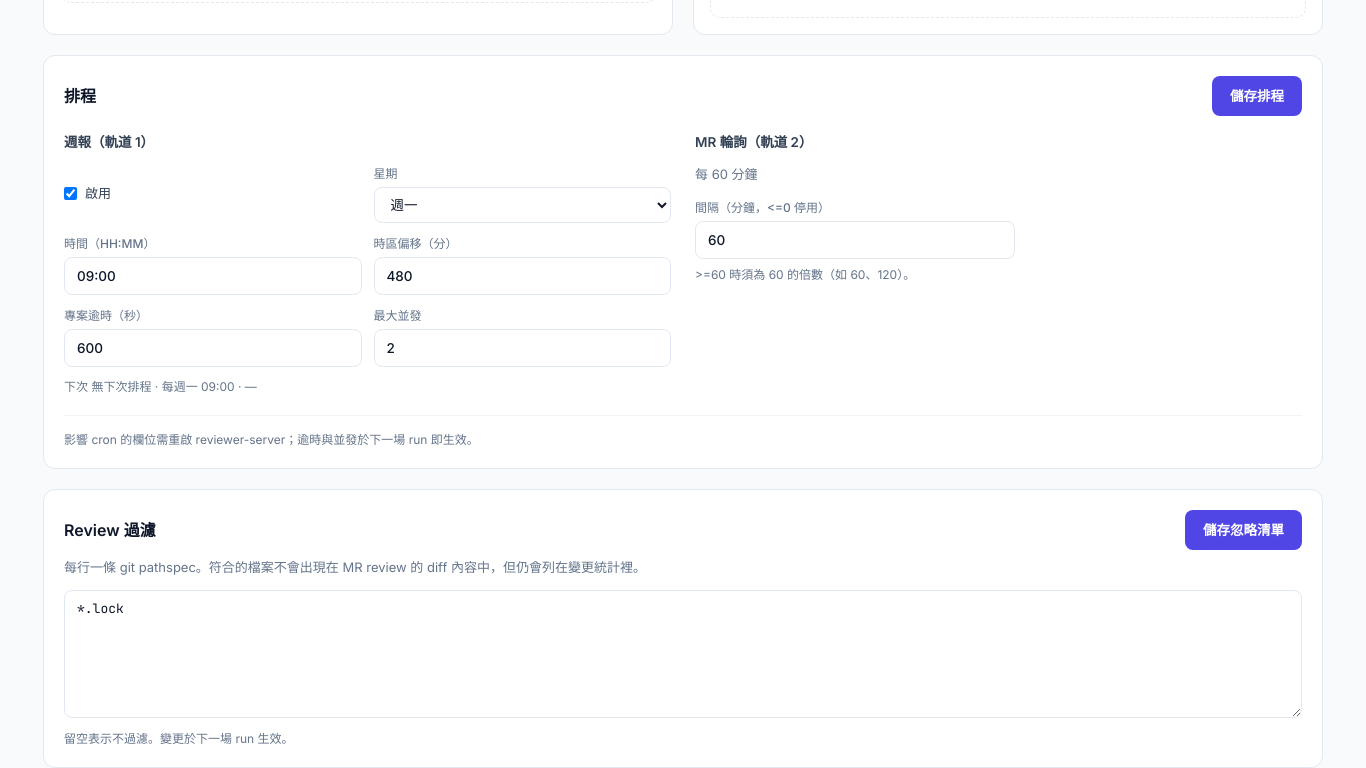
Test: DashboardPage review ignore list › surfaces a rejected save without claiming success
(page scrolled)
Step 1. Replace the text in the text box named "忽略清單" with ":(top)" → (683, 654), box [64, 590, 1302, 718]
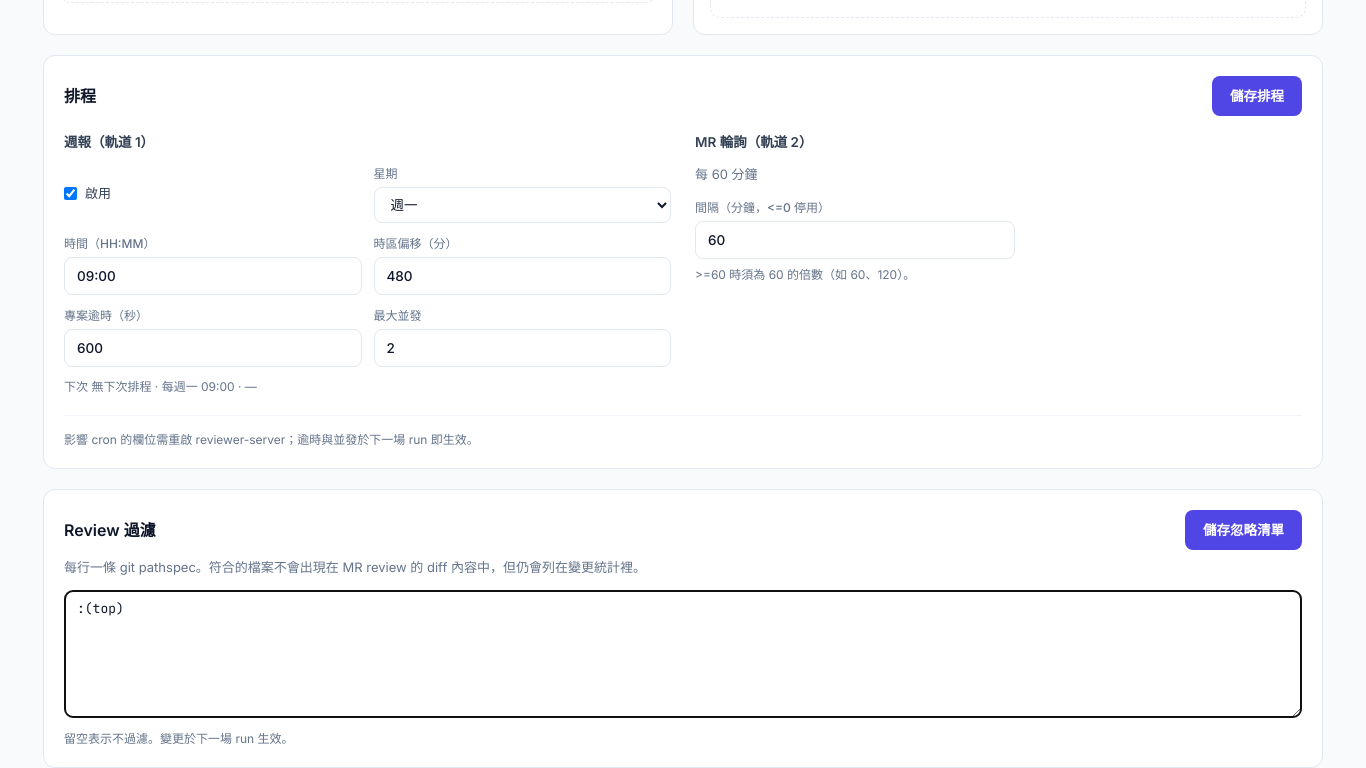
Step 2. Click the button "儲存忽略清單" → (1244, 530), box [1185, 510, 1302, 550]
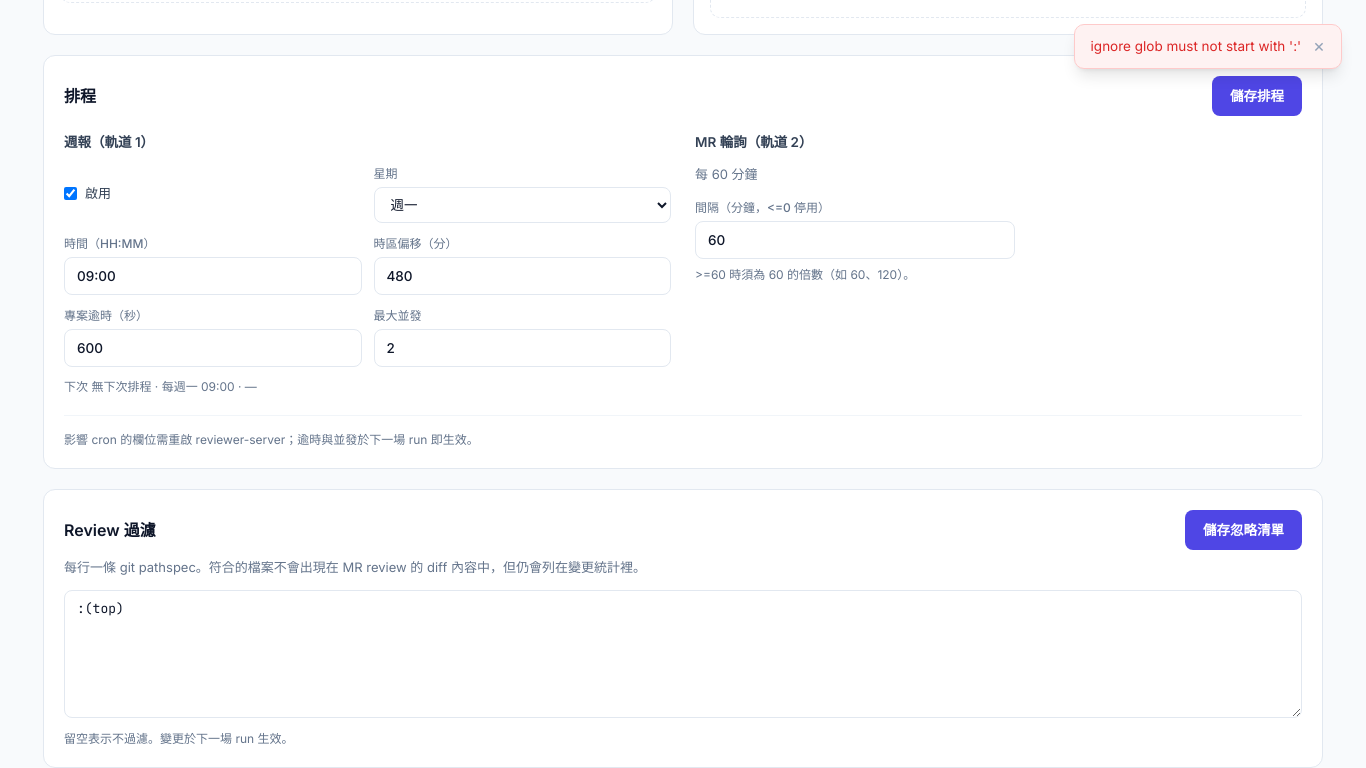
Expected: the text "ignore glob must not start with ':'" is shown, [1091, 37, 1301, 56]
